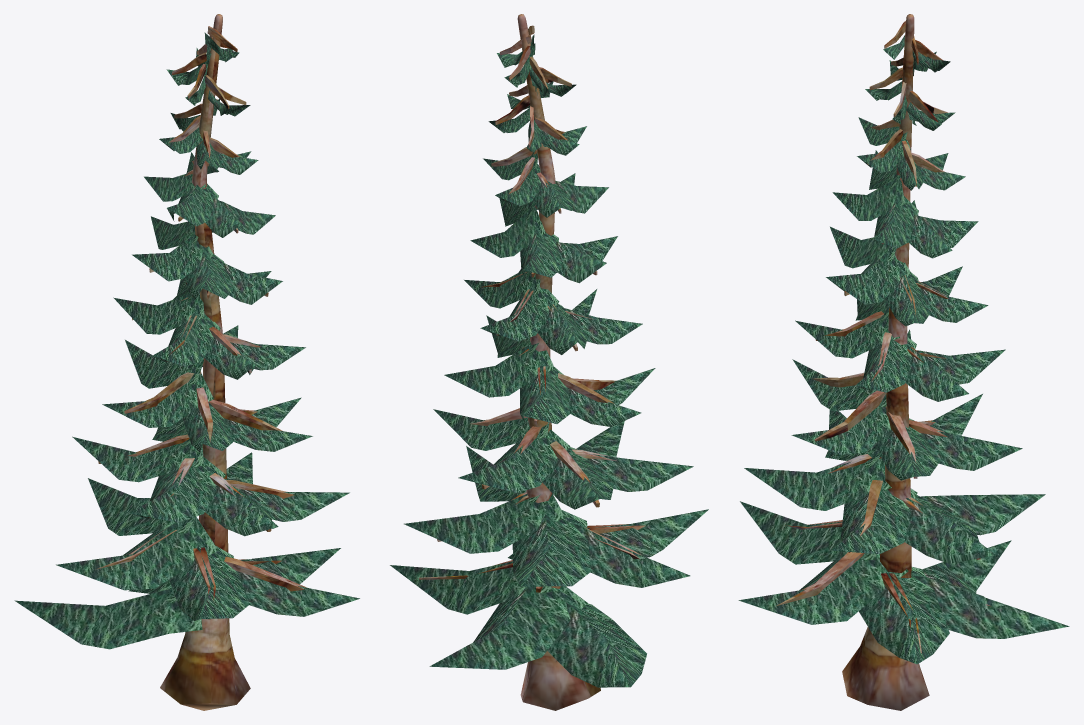
File: tree.glb
The picture shows the model from 3 angles, left to right: view 1: azimuth 30°, elevation 25°; view 2: azimuth 150°, elevation 25°; view 3: azimuth 270°, elevation 25°; orthographic projection. The views are drawn at different scales.
Parts seen in each view (by area): view 1: tree; view 2: tree; view 3: tree.
Boxes of the visible parts, x1,y1,x2,y2 form: tree: (14,14,359,710); tree: (390,14,708,710); tree: (738,14,1069,710).
Bounding box in the file's own units: 19.06 × 42.66 × 18.21.
2 materials, 2 textured.
